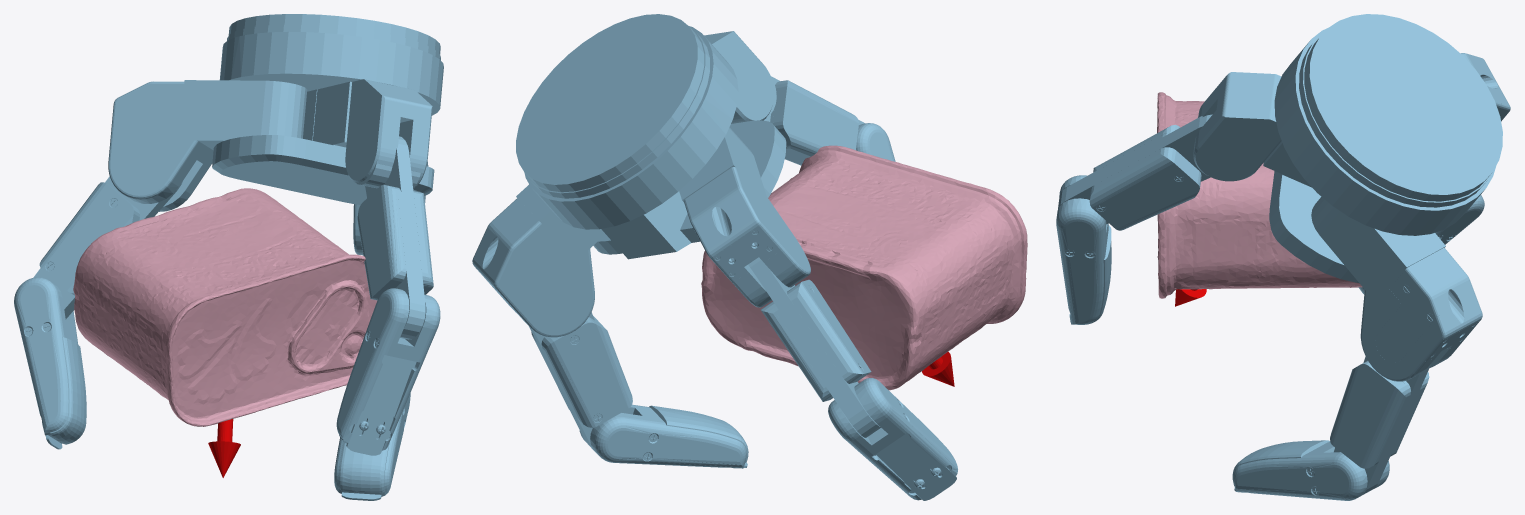
The picture shows the model from 3 angles, left to right: view 1: azimuth 30°, elevation 25°; view 2: azimuth 150°, elevation 25°; view 3: azimuth 270°, elevation 25°; orthographic projection. The views are drawn at different scales.
Visible parts, largest first — view 1: world, potted_meat_can.stl; view 2: world, potted_meat_can.stl; view 3: world, potted_meat_can.stl.
Boxes of the visible parts, left/top/right/bottom form: world: left=14, top=14, right=443, bottom=500; potted_meat_can.stl: left=73, top=188, right=377, bottom=426; world: left=472, top=14, right=957, bottom=500; potted_meat_can.stl: left=701, top=145, right=1027, bottom=390; world: left=1056, top=14, right=1510, bottom=500; potted_meat_can.stl: left=1157, top=92, right=1362, bottom=298.
Bounding box in the file's own units: 0.1967 × 0.1992 × 0.1758.
